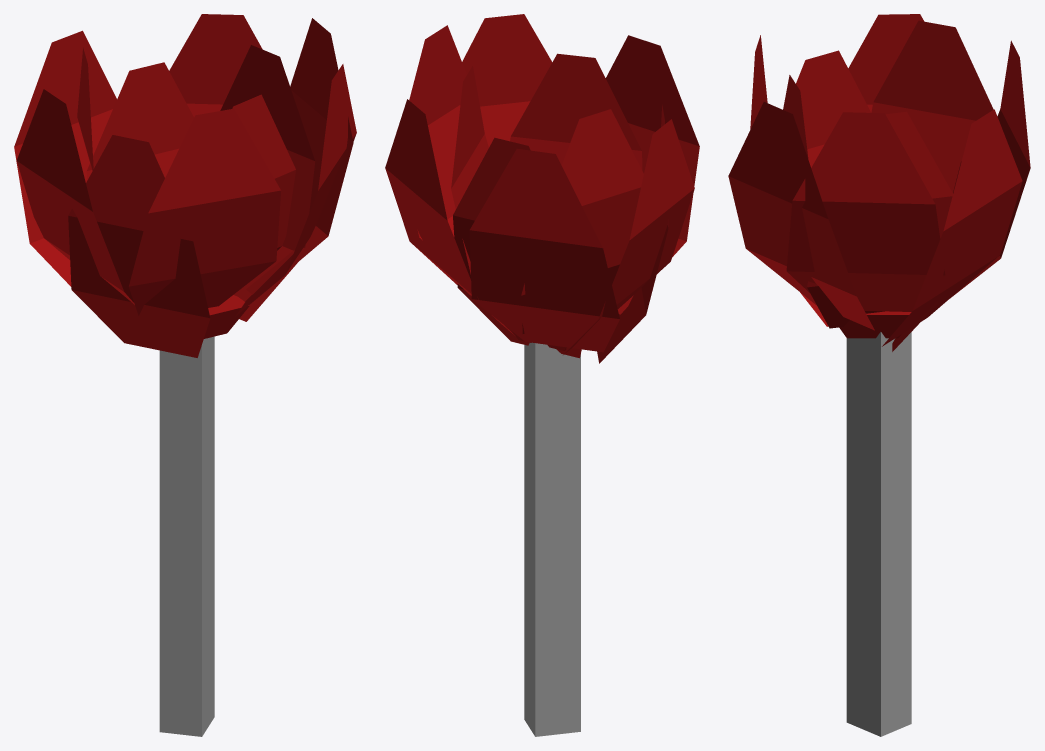
File: rose.obj
The picture shows the model from 3 angles, left to right: view 1: azimuth 30°, elevation 25°; view 2: azimuth 150°, elevation 25°; view 3: azimuth 270°, elevation 25°; orthographic projection. The views are drawn at different scales.
Parts seen in each view (by area): view 1: Cube.001_Cube.018; view 2: Cube.001_Cube.018; view 3: Cube.001_Cube.018.
Boxes of the visible parts, x1,y1,x2,y2 form: Cube.001_Cube.018: [14, 14, 356, 736]; Cube.001_Cube.018: [385, 14, 699, 736]; Cube.001_Cube.018: [728, 14, 1030, 736].
Bounding box in the file's own units: 0.0505 × 0.1209 × 0.0493.
